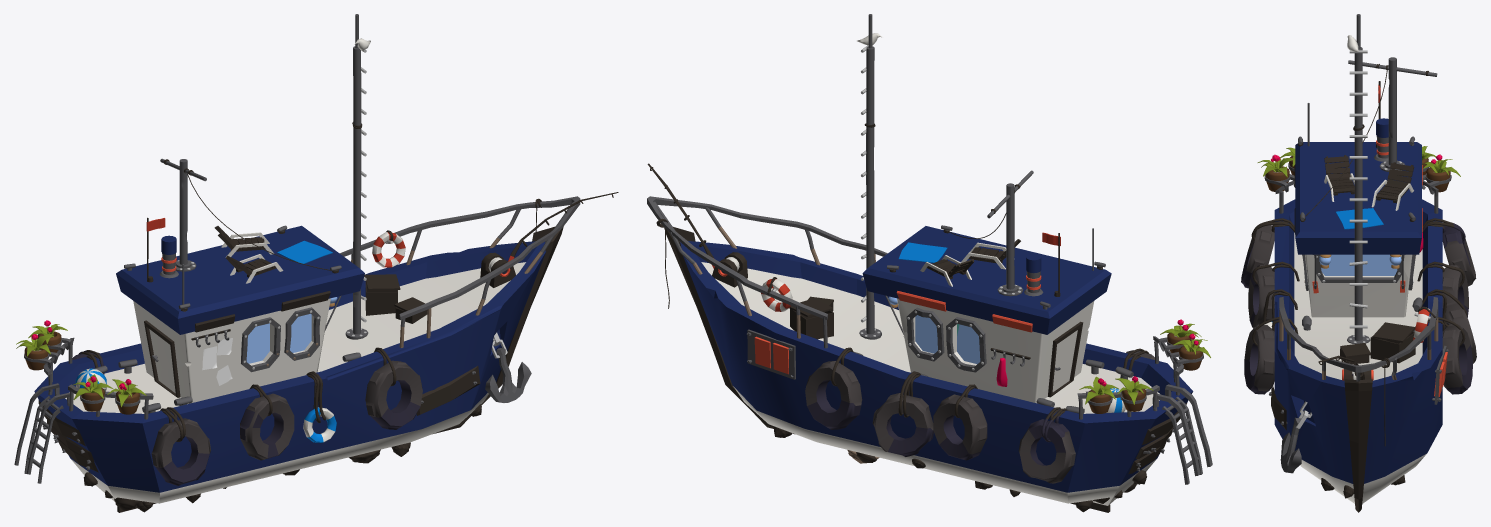
File: Barco3.glb
3 views of the same model, side by side, from view 1: azimuth 30°, elevation 25°; view 2: azimuth 150°, elevation 25°; view 3: azimuth 270°, elevation 25° (orthographic). The views are drawn at different scales.
Visible parts, largest first — view 1: polySurface208, pCube126, polySurface203, pCylinder427, polySurface202, polySurface205, pCylinder480, pCube114, polySurface206, pCube124, pCube116, pCylinder460 (+13 smaller); view 2: polySurface208, pCube126, pCylinder427, polySurface203, polySurface202, polySurface205, pCylinder480, pCube115, polySurface206, pCylinder460, pCylinder513, polySurface188 (+12 smaller); view 3: polySurface208, pCube126, pCylinder427, polySurface202, polySurface203, polySurface206, pCylinder480, polySurface205, pCube146, pCube147, pCylinder513, pCylinder534 (+12 smaller).
Part boxes in pixels (x1,y1,x2,y2): polySurface208: (34,241,546,503); pCube126: (116,225,364,334); polySurface203: (133,298,330,403); pCylinder427: (72,347,422,485); polySurface202: (65,262,525,413); polySurface205: (340,196,580,319); pCylinder480: (353,46,361,334); pCube114: (241,307,320,372); polySurface206: (117,226,563,512); pCube124: (485,348,531,402); pCube116: (416,366,480,415); pCylinder460: (351,202,573,347); polySurface208: (680,241,1193,505); pCube126: (862,226,1111,334); pCylinder427: (805,347,1159,483); polySurface203: (897,298,1094,403); polySurface202: (701,262,1159,413); polySurface205: (647,196,887,319); pCylinder480: (866,46,874,334); pCube115: (906,307,986,372); polySurface206: (664,227,1110,512); pCylinder460: (654,201,875,348); pCylinder513: (1006,183,1014,289); polySurface188: (746,329,795,379); polySurface208: (1274,199,1442,503); pCube126: (1295,142,1421,254); pCylinder427: (1241,218,1476,394); polySurface202: (1294,232,1422,380); polySurface203: (1305,254,1412,317); polySurface206: (1344,379,1372,512); pCylinder480: (1354,47,1362,340); polySurface205: (1279,297,1437,372); pCube146: (1371,162,1414,210); pCube147: (1324,155,1354,201); pCylinder513: (1388,57,1396,165); pCylinder534: (1422,154,1460,194).
Size of the model in its own units: 173 by 125 by 59.82.
